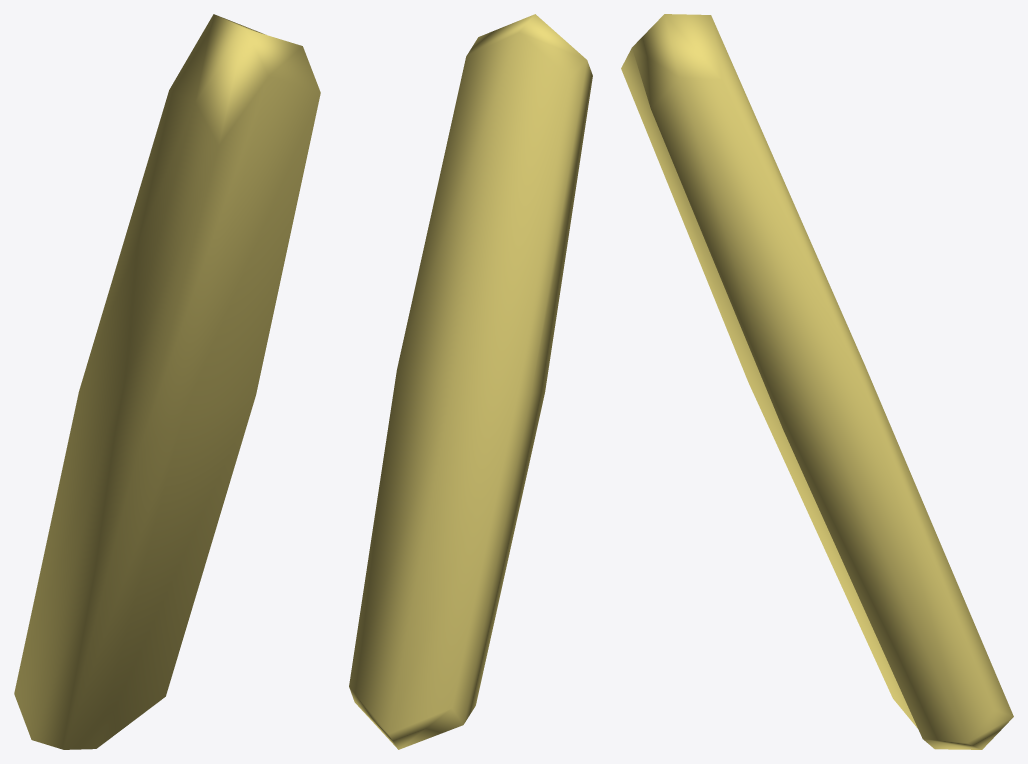
The model's file is nucleus-of-hypoglossal-nerve-r.glb.
3 views of the same model, side by side, from view 1: azimuth 30°, elevation 25°; view 2: azimuth 150°, elevation 25°; view 3: azimuth 270°, elevation 25° (orthographic). The views are drawn at different scales.
Parts seen in each view (by area): view 1: Nucleus of hypoglossal nerve.r; view 2: Nucleus of hypoglossal nerve.r; view 3: Nucleus of hypoglossal nerve.r.
Boxes of the visible parts, x1,y1,x2,y2 form: Nucleus of hypoglossal nerve.r: (14, 14, 320, 749); Nucleus of hypoglossal nerve.r: (349, 14, 592, 749); Nucleus of hypoglossal nerve.r: (621, 14, 1013, 749).
Size of the model in its own units: 0.00144 by 0.00771 by 0.00373.
